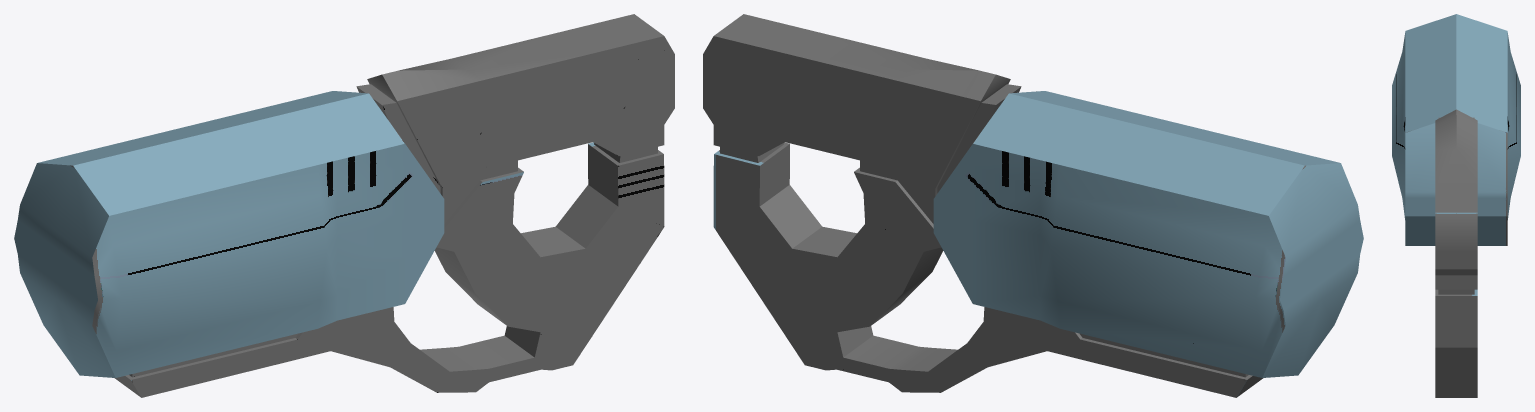
Rendered from guns.glb.
3 views of the same model, side by side, from view 1: azimuth 30°, elevation 25°; view 2: azimuth 150°, elevation 25°; view 3: azimuth 270°, elevation 25° (orthographic). The views are drawn at different scales.
Visible parts, largest first — view 1: Cube; view 2: Cube; view 3: Cube.
Boxes of the visible parts, x1=… form: Cube: x1=14, y1=14, x2=674, y2=397; Cube: x1=703, y1=14, x2=1363, y2=397; Cube: x1=1392, y1=14, x2=1520, y2=397.
Size of the model in its own units: 0.926 by 0.478 by 0.2424.
Materials: 1 (1 with a texture image).
